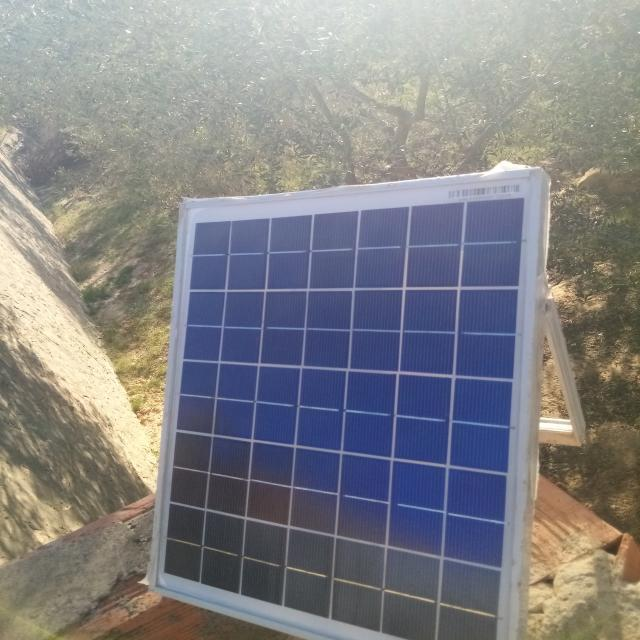no faulty: (154, 169, 542, 640)
